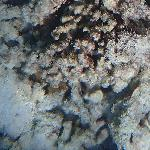dead: (7, 5, 147, 145)
